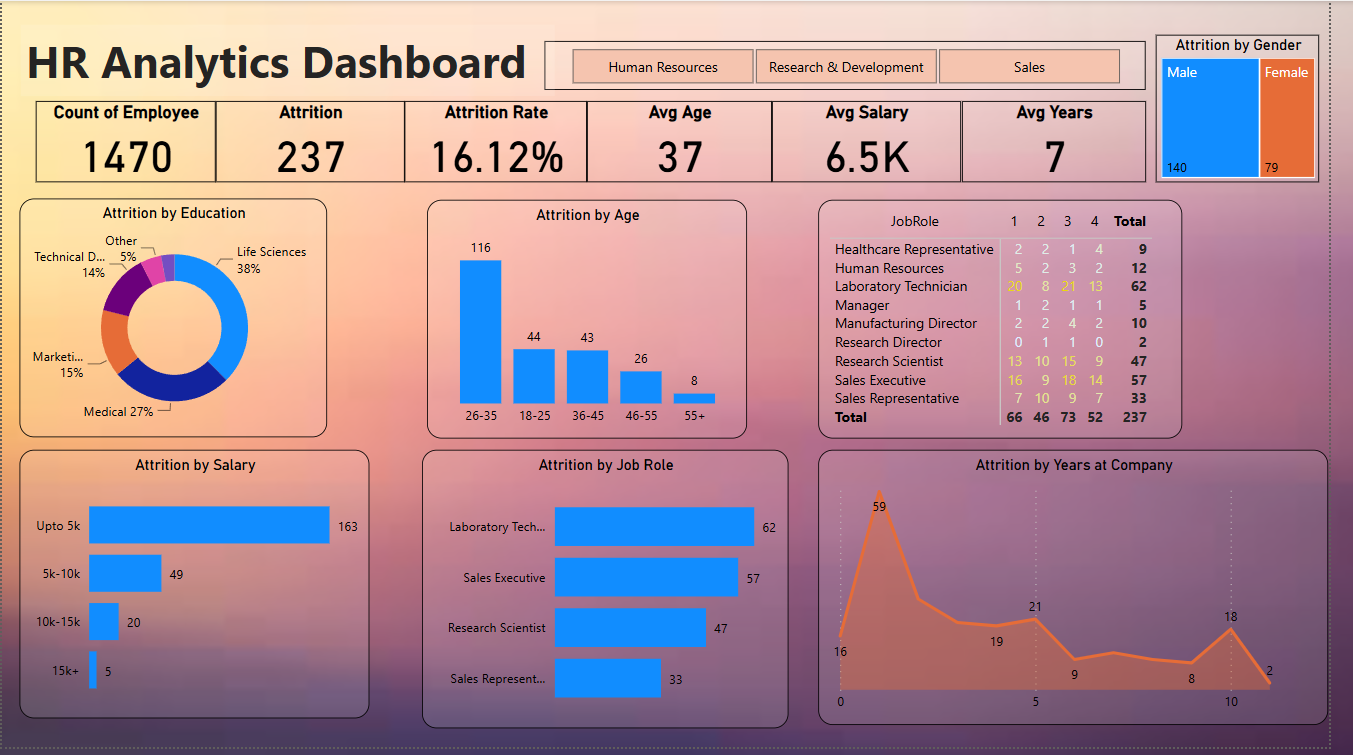

The dashboard page shown, as its layout file describes it:
{"tool":"powerbi","page":{"name":"Page 1","canvas":[1280,720],"ordinal":0},"visuals":[{"type":"card","title":"Count of Employee","fields":{"Values":["Sum(HR_Analytics.EmployeeCount)"]},"box":[32.6,96.5,173.7,78.4],"z":0},{"type":"card","title":"Attrition","fields":{"Values":["Sum(HR_Analytics.Attrition Count)"]},"box":[206.2,96.5,182.1,78.4],"z":1000},{"type":"card","title":"Attrition Rate","fields":{"Values":["HR_Analytics.Attrition Rate"]},"box":[388.3,96.5,176.1,78.4],"z":2000},{"type":"card","title":"Avg Age","fields":{"Values":["Avg(HR_Analytics.Age)"]},"box":[564.4,96.5,178.5,78.4],"z":3000},{"type":"card","title":"Avg Years","fields":{"Values":["Avg(HR_Analytics.YearsAtCompany)"]},"box":[926.2,96.5,177.3,78.4],"z":4000},{"type":"card","title":"Avg Salary","fields":{"Values":["Avg(HR_Analytics.MonthlyIncome)"]},"box":[742.9,96.5,182.1,78.4],"z":5000},{"type":"donutChart","title":"Attrition by Education","fields":{"Category":["HR_Analytics.EducationField"],"Y":["Sum(HR_Analytics.Attrition Count)"]},"box":[16.9,190.6,296.7,230.4],"z":6000},{"type":"clusteredColumnChart","title":"Attrition by Age","fields":{"Category":["HR_Analytics.AgeGroup"],"Y":["Sum(HR_Analytics.Attrition Count)"]},"box":[410.1,191.8,308.7,230.4],"z":7000},{"type":"pivotTable","fields":{"Rows":["HR_Analytics.JobRole"],"Columns":["HR_Analytics.JobSatisfaction"],"Values":["Sum(HR_Analytics.Attrition Count)"]},"box":[787.5,191.8,351,230.4],"z":8000},{"type":"clusteredBarChart","title":"Attrition by Salary","fields":{"Category":["HR_Analytics.SalarySlab"],"Y":["Sum(HR_Analytics.Attrition Count)"]},"box":[16.9,433,337.7,259.3],"z":9000},{"type":"clusteredBarChart","title":"Attrition by Job Role","fields":{"Category":["HR_Analytics.JobRole"],"Y":["Sum(HR_Analytics.Attrition Count)"]},"box":[405.2,433,353.4,268.9],"z":10000},{"type":"areaChart","title":"Attrition by Years at Company","fields":{"Category":["HR_Analytics.YearsAtCompany"],"Y":["Sum(HR_Analytics.Attrition Count)"]},"box":[787.5,433,492.1,265.3],"z":10001},{"type":"treemap","title":"Attrition by Gender","fields":{"Group":["HR_Analytics.Gender"],"Values":["Sum(HR_Analytics.Attrition Count)"]},"box":[1113.2,32.6,158,142.3],"z":10002},{"type":"slicer","title":"Department","fields":{"Values":["HR_Analytics.Department"]},"box":[523.4,38.6,580.1,47],"z":10003},{"type":"textbox","box":[16.9,16.9,515,68.7],"z":10004}]}

Visuals, with their boxes in screenshot pixels (x1, y1, x2, y2), scaled from the page's 1280x720 canvas onto the 1353x755 screenshot:
"Count of Employee" card: [34,101,218,183]
"Attrition" card: [218,101,410,183]
"Attrition Rate" card: [410,101,597,183]
"Avg Age" card: [597,101,785,183]
"Avg Years" card: [979,101,1166,183]
"Avg Salary" card: [785,101,978,183]
"Attrition by Education" donutChart: [18,200,331,441]
"Attrition by Age" clusteredColumnChart: [433,201,760,443]
pivotTable - HR_Analytics.JobRole x HR_Analytics.JobSatisfaction: [832,201,1203,443]
"Attrition by Salary" clusteredBarChart: [18,454,375,726]
"Attrition by Job Role" clusteredBarChart: [428,454,802,736]
"Attrition by Years at Company" areaChart: [832,454,1352,732]
"Attrition by Gender" treemap: [1177,34,1344,183]
"Department" slicer: [553,40,1166,90]
textbox: [18,18,562,90]
